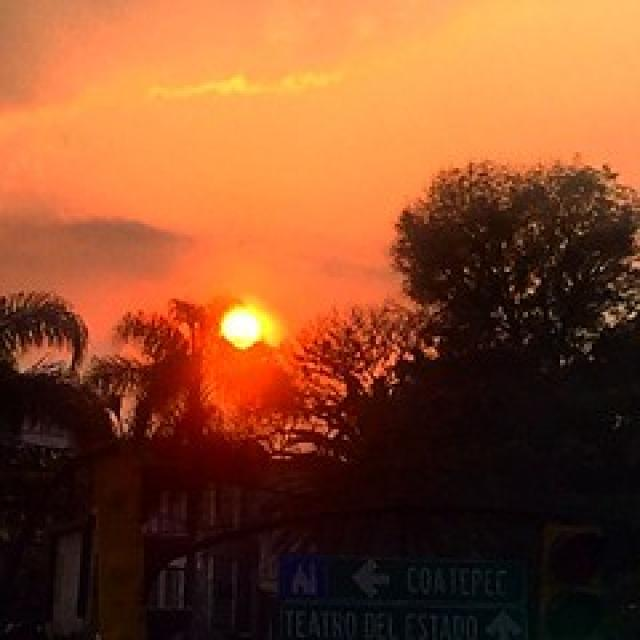sun: (203, 281, 287, 372)
